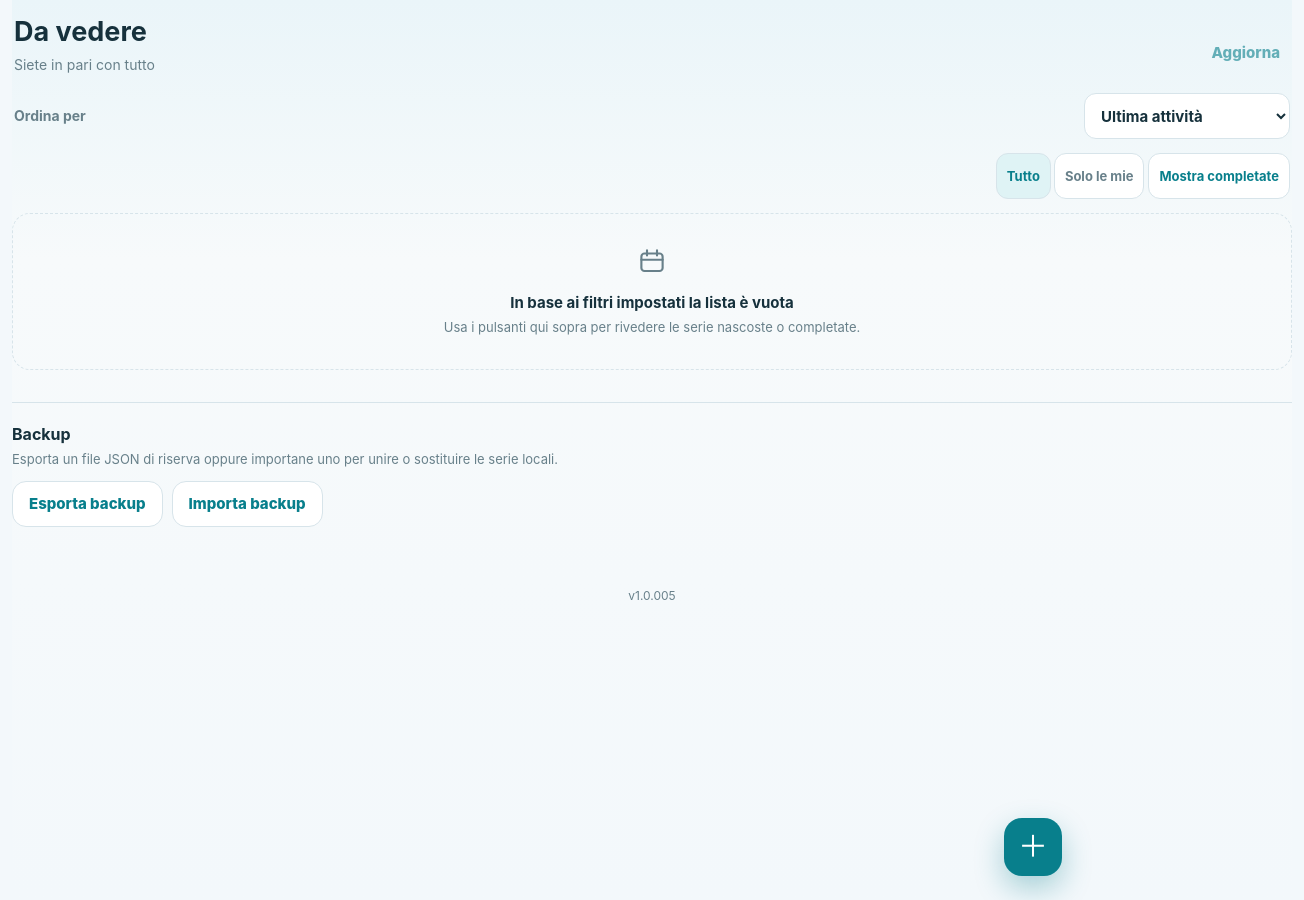
Scenario: HomeView — visibilità delle serie completate › mostra il pulsante con etichetta e conteggio corretti, e rivela le completate nascoste al click
Step 1. Click the button with class "completed-toggle" → (1219, 176), box 1148,153 -> 1290,199
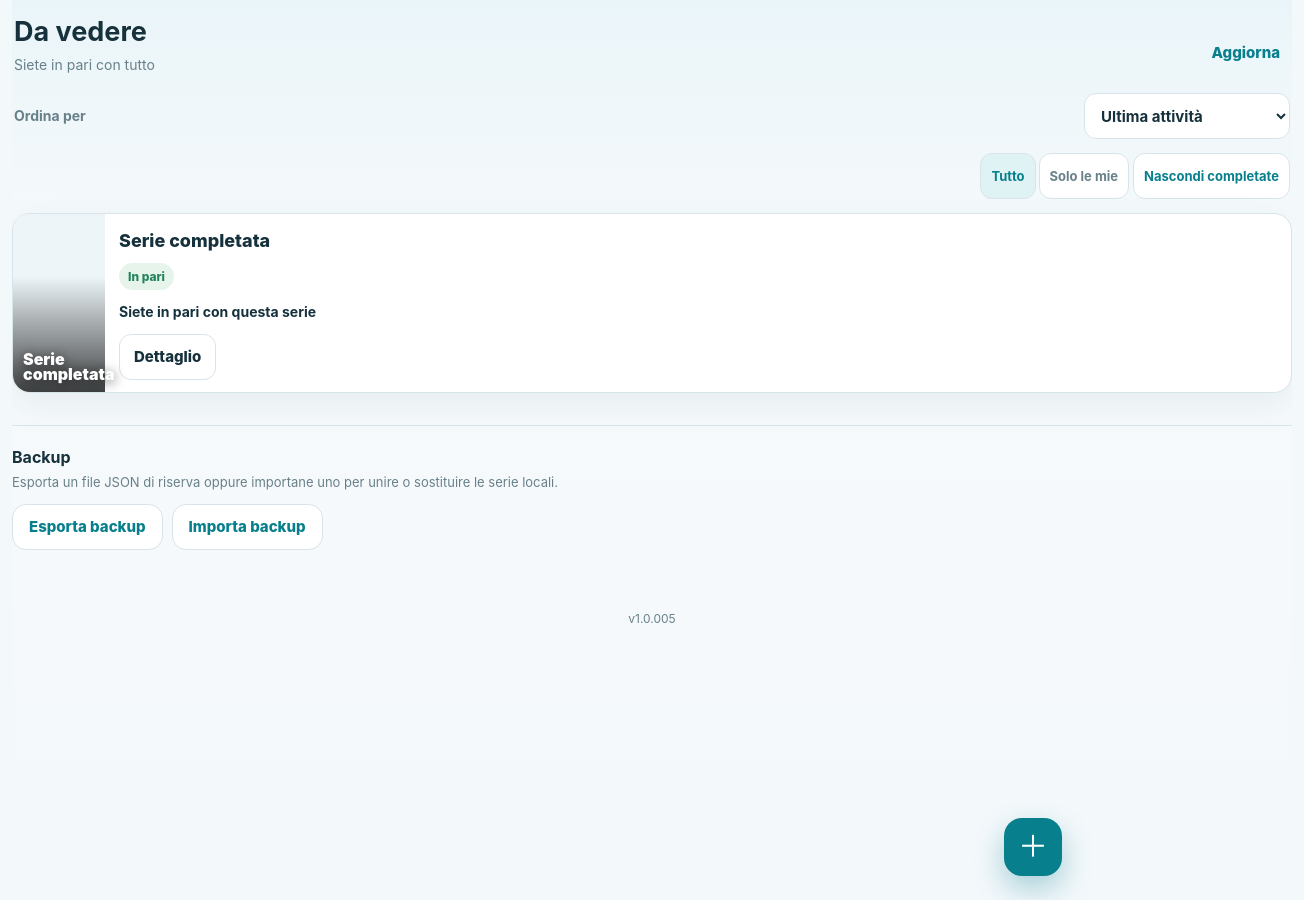
Check: the button with class "completed-toggle" reads "Nascondi completate", box 1133,153 -> 1290,199
Check: the number of elements with class "show" is 1, box 12,213 -> 1292,393
